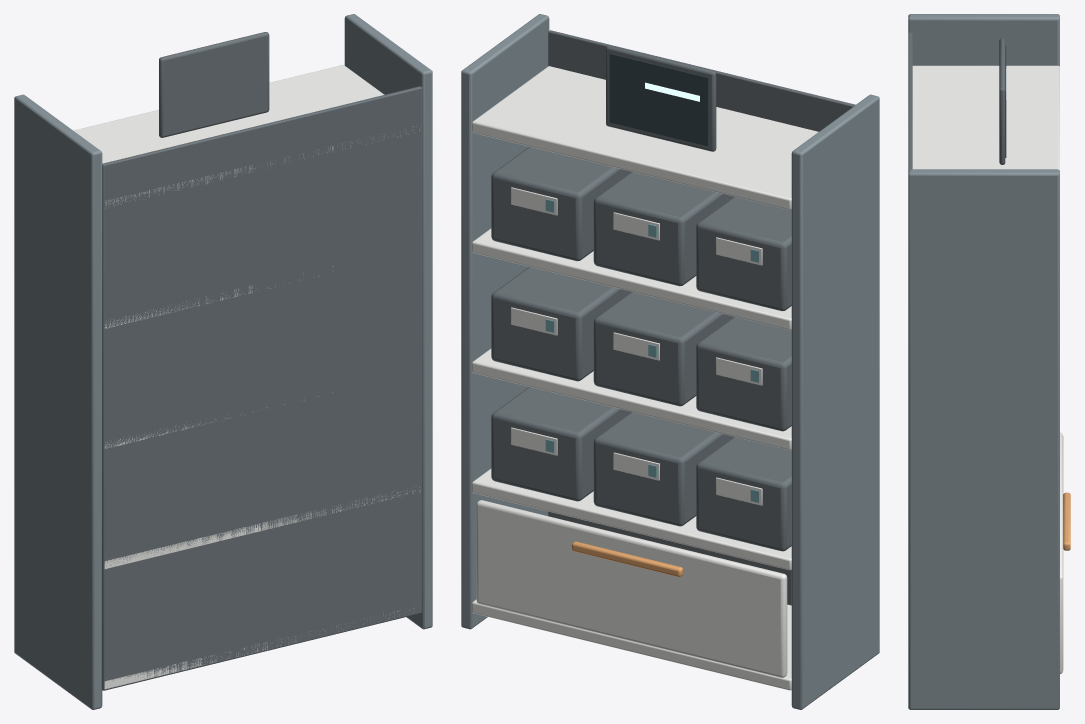
File: spare_parts_rack.glb
The picture shows the model from 3 angles, left to right: view 1: azimuth 30°, elevation 25°; view 2: azimuth 150°, elevation 25°; view 3: azimuth 270°, elevation 25°; orthographic projection. The views are drawn at different scales.
Parts seen in each view (by area): view 1: back_panel_graphite, upright_L_dark_alloy, upright_R_dark_alloy, tablet_body_graphite, shelf_4_white_painted, shelf_1_white_painted, shelf_0_white_painted; view 2: upright_L_dark_alloy, Tool_Drawer_front_white_painted, shelf_4_white_painted, upright_R_dark_alloy, bin_0_1_graphite, bin_2_1_graphite, bin_1_1_graphite, bin_0_2_graphite, bin_1_2_graphite, bin_2_2_graphite, bin_0_0_graphite, bin_1_0_graphite (+18 smaller); view 3: upright_R_dark_alloy, shelf_4_white_painted, upright_L_dark_alloy, Tool_Drawer_front_white_painted, tablet_body_graphite, back_panel_graphite, Tool_Drawer_handle_orange.
Boxes of the visible parts, x1=… form: back_panel_graphite: x1=102, y1=86, x2=422, y2=690; upright_L_dark_alloy: x1=14, y1=94, x2=102, y2=709; upright_R_dark_alloy: x1=344, y1=14, x2=432, y2=629; tablet_body_graphite: x1=159, y1=32, x2=269, y2=137; shelf_4_white_painted: x1=74, y1=65, x2=420, y2=206; shelf_1_white_painted: x1=104, y1=486, x2=420, y2=568; shelf_0_white_painted: x1=104, y1=608, x2=413, y2=689; upright_L_dark_alloy: x1=791, y1=94, x2=879, y2=709; Tool_Drawer_front_white_painted: x1=476, y1=500, x2=787, y2=677; shelf_4_white_painted: x1=472, y1=66, x2=818, y2=209; upright_R_dark_alloy: x1=461, y1=14, x2=549, y2=629; bin_0_1_graphite: x1=593, y1=412, x2=733, y2=526; bin_2_1_graphite: x1=593, y1=171, x2=733, y2=286; bin_1_1_graphite: x1=593, y1=292, x2=733, y2=406; bin_0_2_graphite: x1=491, y1=387, x2=631, y2=501; bin_1_2_graphite: x1=491, y1=266, x2=631, y2=381; bin_2_2_graphite: x1=491, y1=146, x2=631, y2=261; bin_0_0_graphite: x1=696, y1=437, x2=791, y2=551; bin_1_0_graphite: x1=696, y1=316, x2=791, y2=431; upright_R_dark_alloy: x1=908, y1=169, x2=1059, y2=709; shelf_4_white_painted: x1=912, y1=65, x2=1059, y2=170; upright_L_dark_alloy: x1=908, y1=14, x2=1059, y2=66; Tool_Drawer_front_white_painted: x1=1060, y1=432, x2=1063, y2=673; tablet_body_graphite: x1=999, y1=38, x2=1005, y2=164; back_panel_graphite: x1=908, y1=32, x2=912, y2=170; Tool_Drawer_handle_orange: x1=1063, y1=492, x2=1070, y2=550.
Size of the model in its own units: 1.25 by 2.06 by 0.535.
